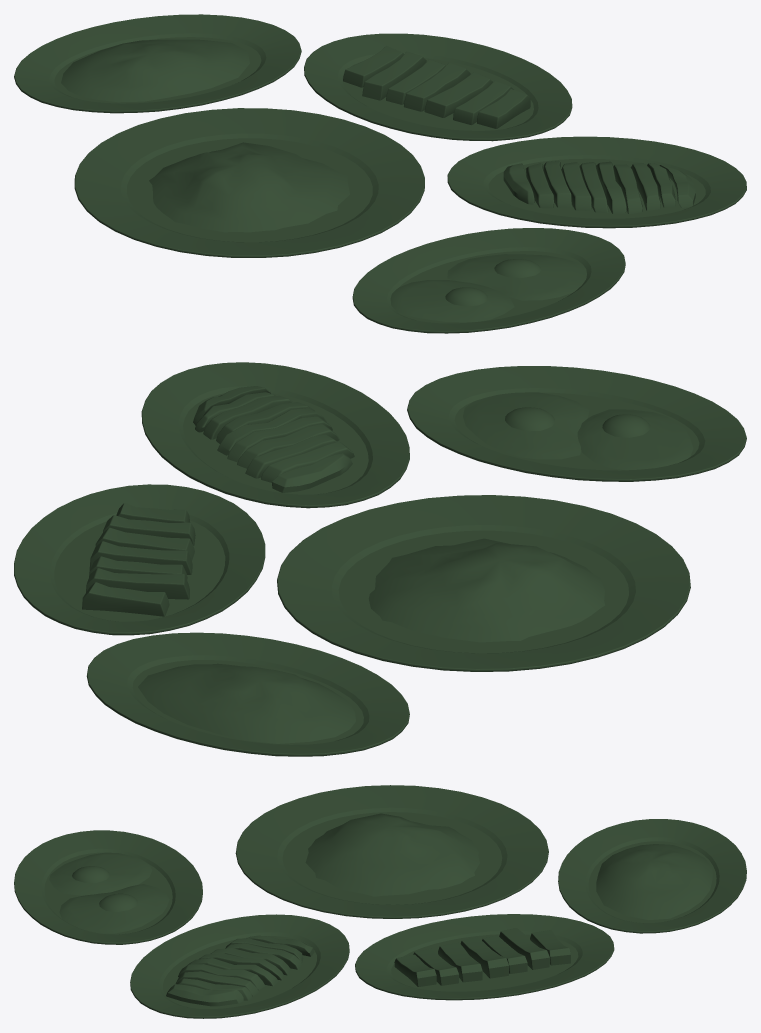
File: Hainanese_Curry_Rice_b.fbx
The picture shows the model from 3 angles, top to bottom: view 1: azimuth 30°, elevation 25°; view 2: azimuth 150°, elevation 25°; view 3: azimuth 270°, elevation 25°; orthographic projection. The views are drawn at different scales.
Visible parts, largest first — view 1: Hainanese_Curry_Rice_b; view 2: Hainanese_Curry_Rice_b; view 3: Hainanese_Curry_Rice_b.
Part boxes in pixels (left/top/right/bottom): Hainanese_Curry_Rice_b: left=14, top=14, right=746, bottom=333; Hainanese_Curry_Rice_b: left=14, top=362, right=746, bottom=756; Hainanese_Curry_Rice_b: left=14, top=785, right=746, bottom=1018.
Size of the model in its own units: 462 by 28.84 by 618.
